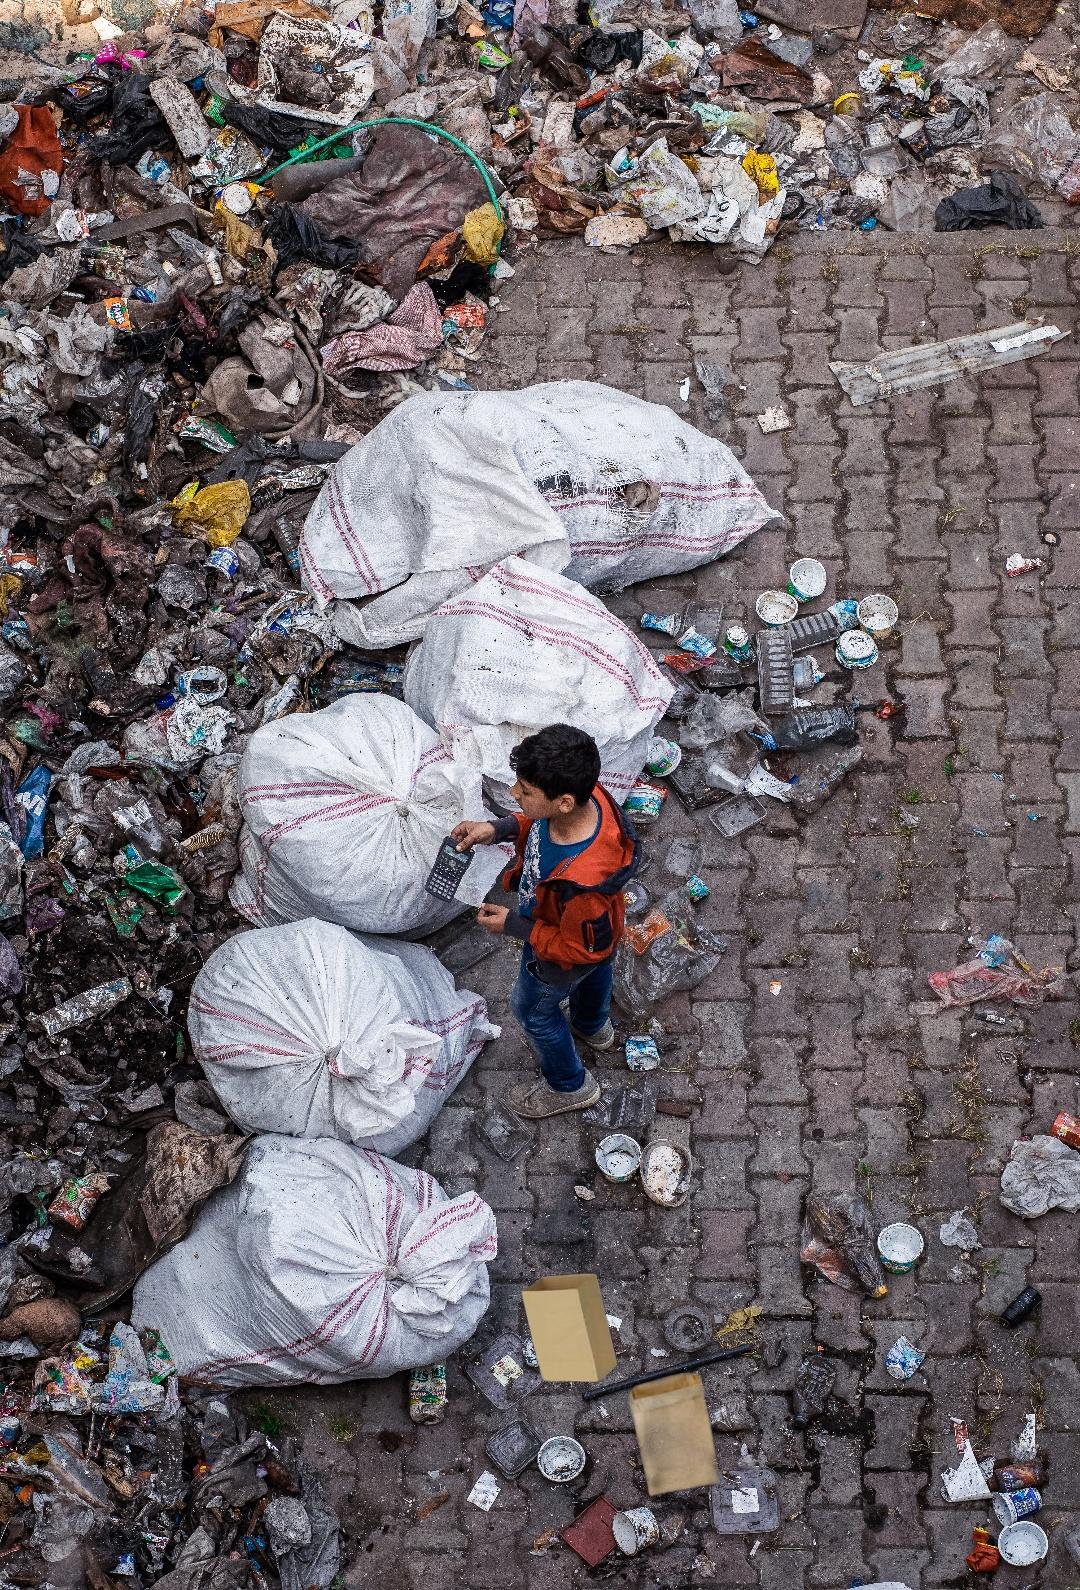paper-bag: (518, 1271, 736, 1520)
